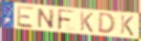D: (97, 12, 117, 36)
E: (16, 5, 35, 30)
F: (57, 9, 77, 32)
K: (120, 14, 135, 37), (79, 11, 94, 33)
N: (37, 8, 56, 30)
